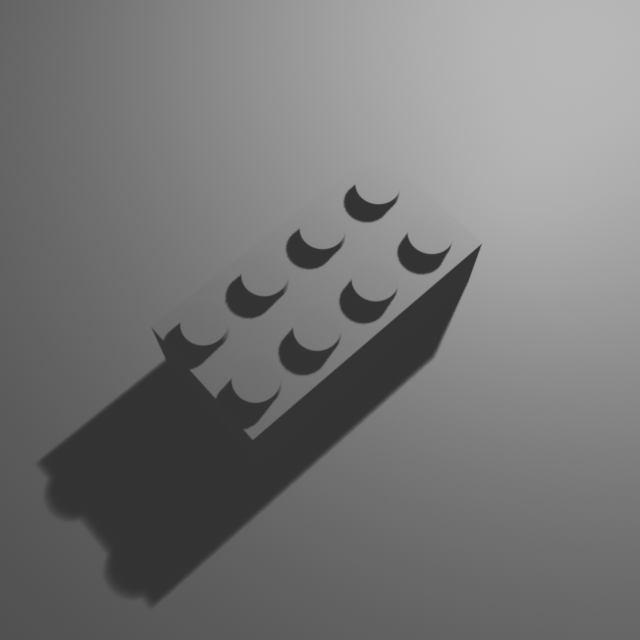lego_2x4: (148, 140, 485, 464)
